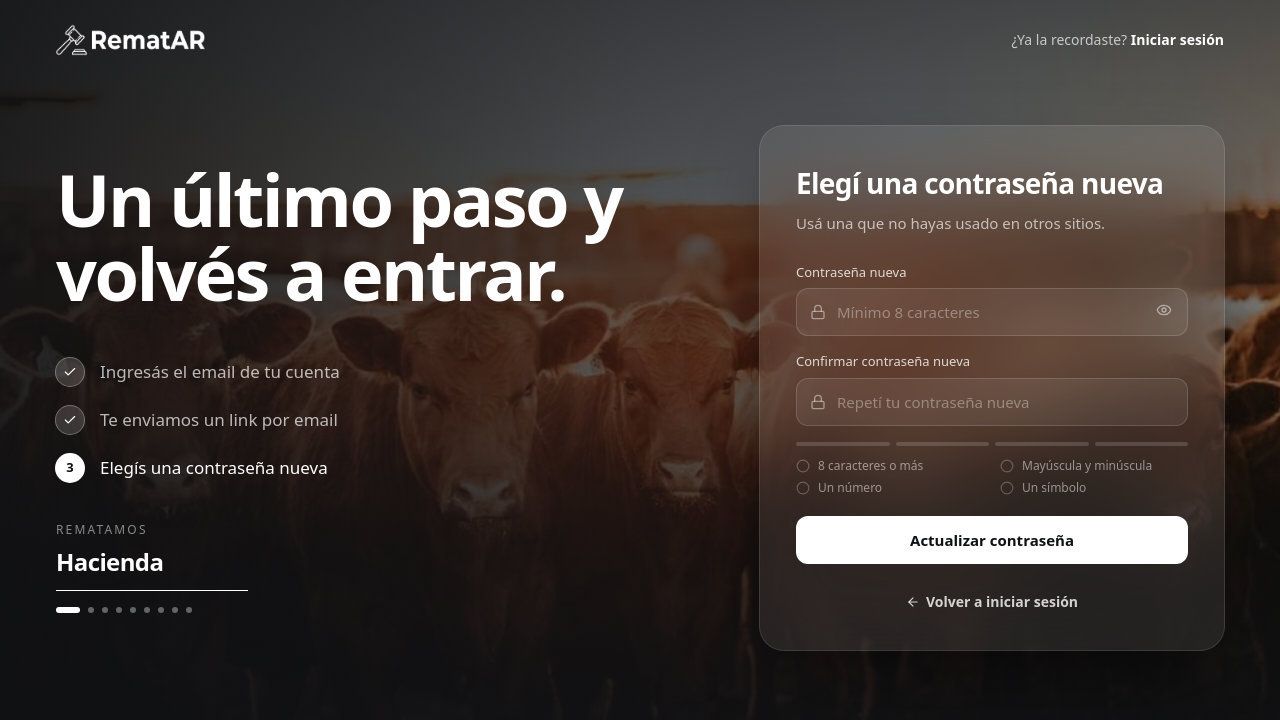
Scenario: ResetPasswordPage › con un link válido muestra el formulario y no envía si las contraseñas no coinciden
expect the heading "Elegí una contraseña nueva" is shown: met, box [796, 162, 1188, 204]
Step 1. Type "password123" into the password field labelled "Contraseña nueva" → (992, 312), box [796, 288, 1188, 336]
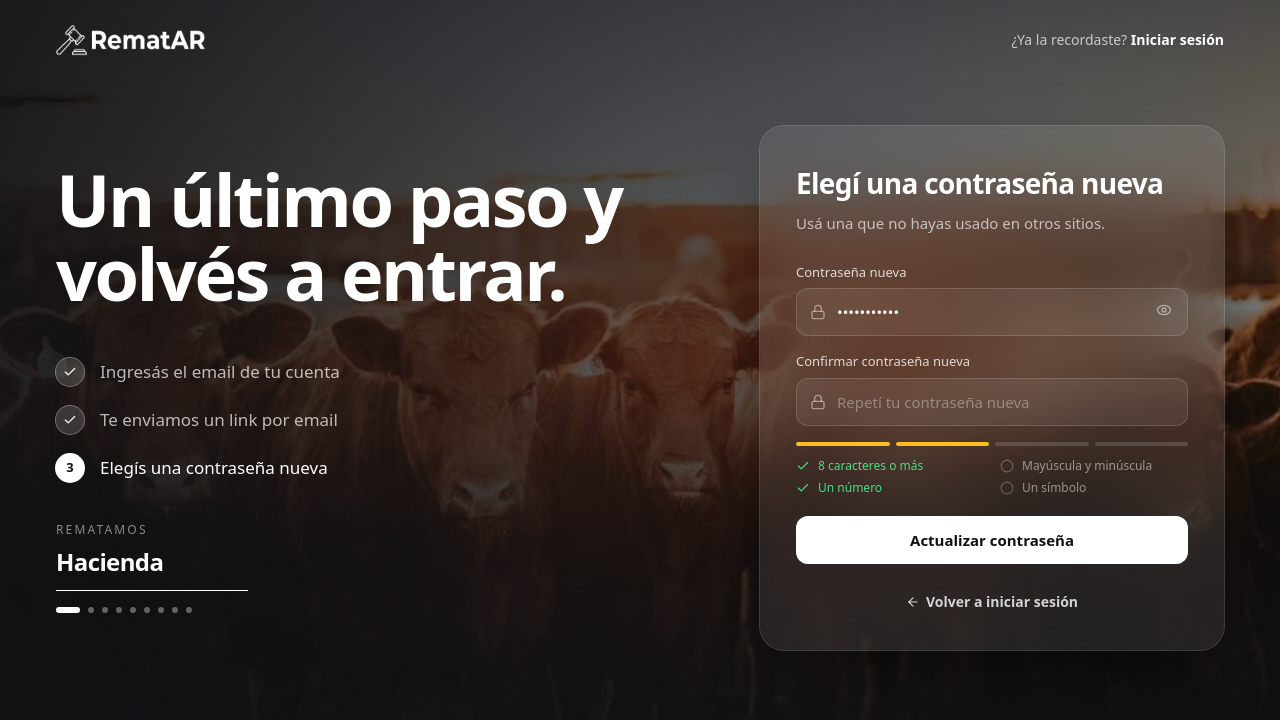
Step 2. Type "otra-password" into the password field labelled "Confirmar contraseña nueva" → (992, 402), box [796, 378, 1188, 426]
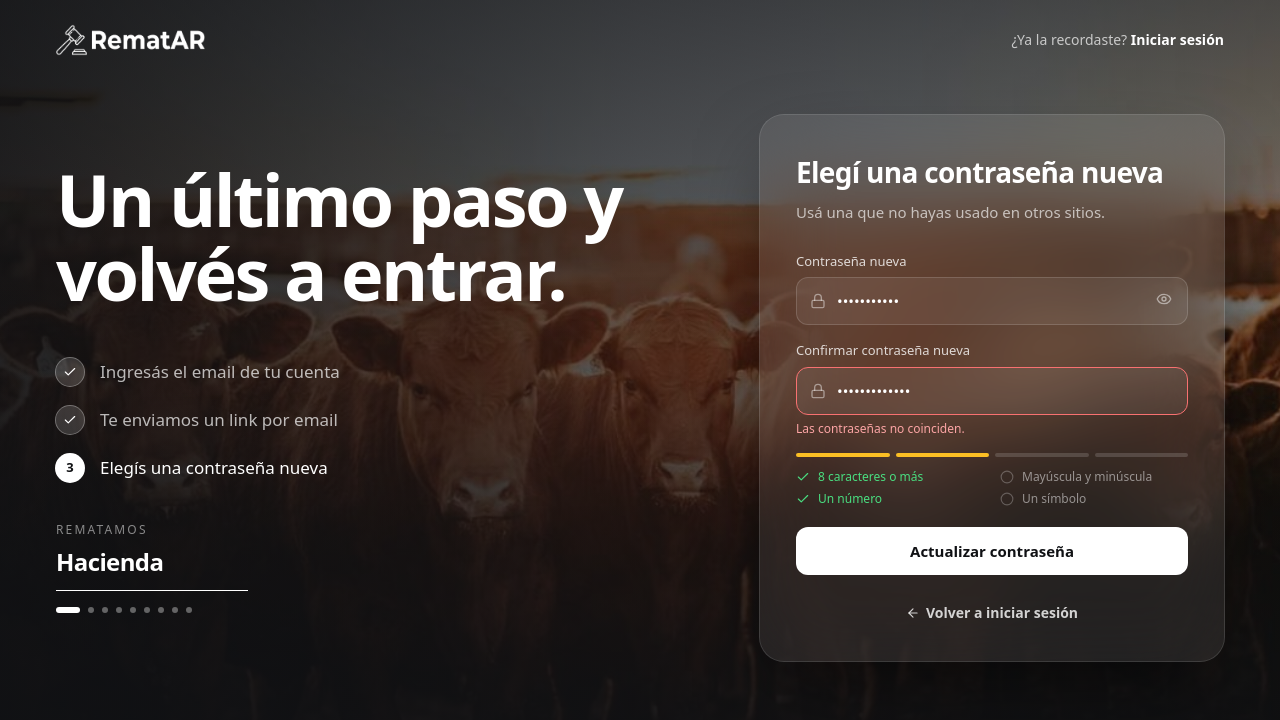
Step 3. Click the button "Actualizar contraseña" → (992, 551), box [796, 527, 1188, 575]
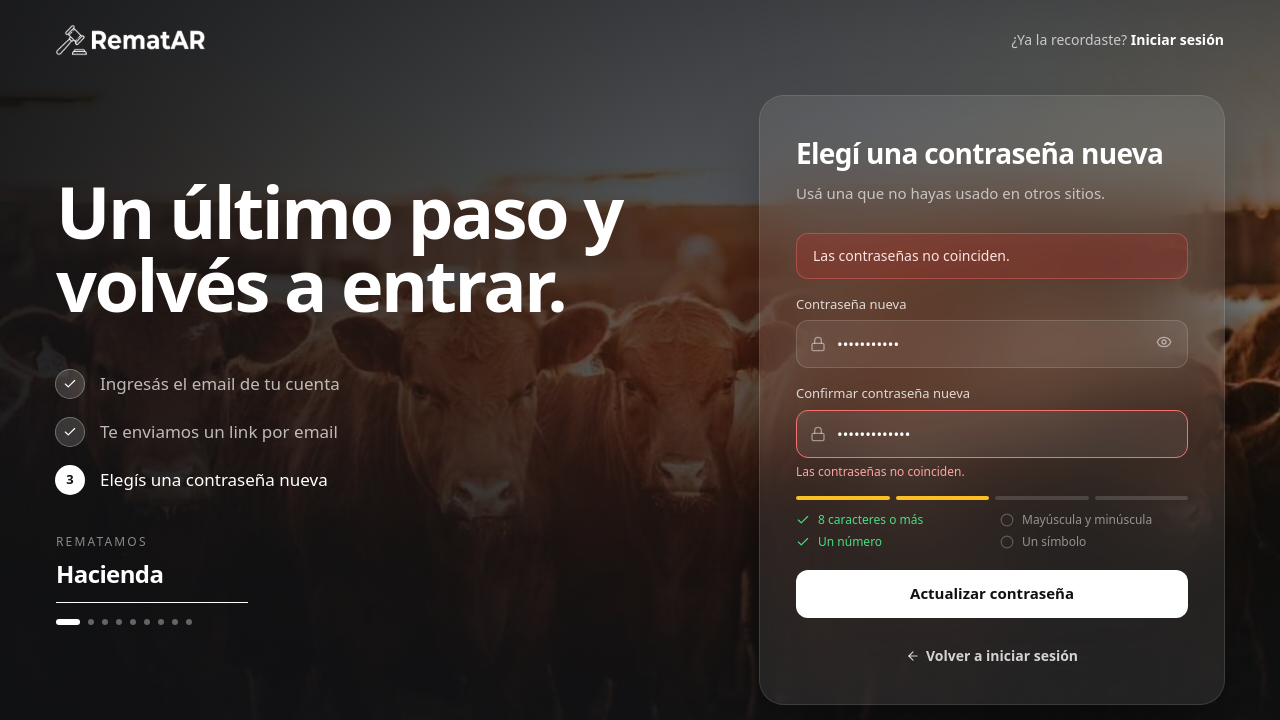
expect the message shows "Las contraseñas no coinciden": met, box [813, 246, 1010, 264]
